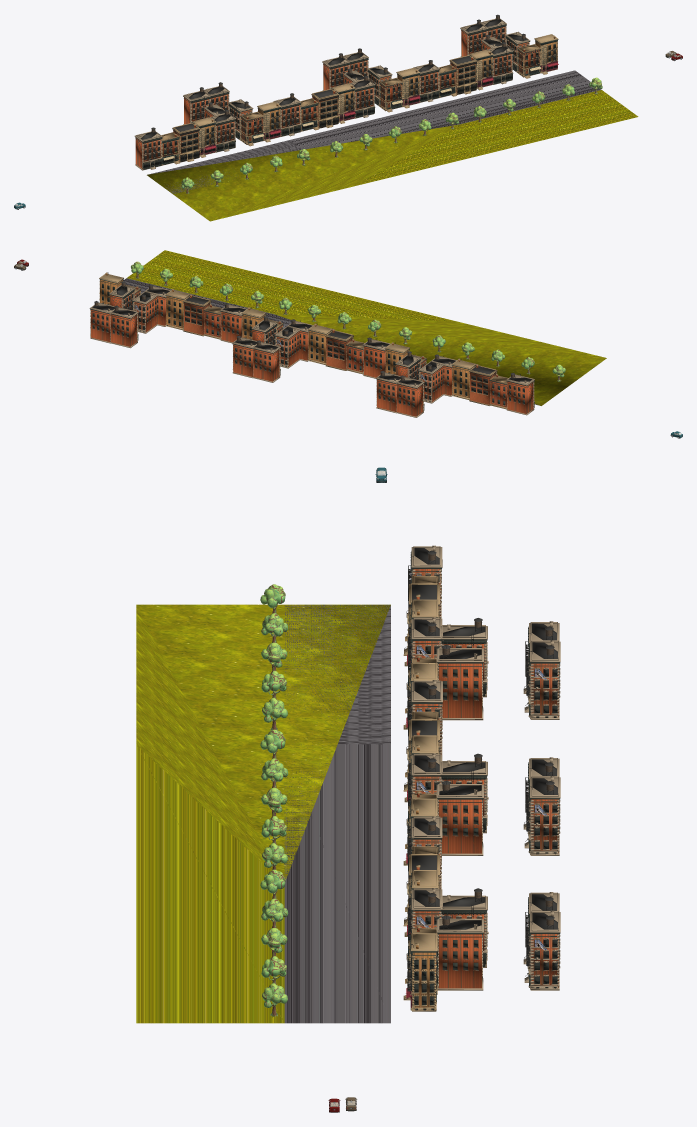
File: nyc_street.glb
3 views of the same model, one above another, from view 1: azimuth 30°, elevation 25°; view 2: azimuth 150°, elevation 25°; view 3: azimuth 270°, elevation 25° (orthographic). The views are drawn at different scales.
Visible parts, largest first — view 1: Object_829, Object_831, Object_4, Object_7, Object_11, Object_6, Object_331, Object_330, Object_14, Object_833, Object_482, Object_15 (+6 smaller); view 2: Object_829, Object_11, Object_7, Object_6, Object_338, Object_833, Object_15, Object_331, Object_592, Object_330, Object_480, Object_595 (+5 smaller); view 3: Object_829, Object_831, Object_7, Object_11, Object_833, Object_15, Object_6, Object_330, Object_14, Object_4, Object_482.
Part boxes in pixels (bbox=[...]): Object_829: bbox=[147, 90, 638, 221]; Object_831: bbox=[148, 70, 601, 193]; Object_4: bbox=[144, 16, 557, 169]; Object_7: bbox=[135, 18, 530, 170]; Object_11: bbox=[135, 26, 528, 168]; Object_6: bbox=[135, 24, 530, 169]; Object_331: bbox=[162, 39, 558, 164]; Object_330: bbox=[192, 34, 558, 157]; Object_14: bbox=[147, 17, 556, 168]; Object_833: bbox=[181, 77, 602, 193]; Object_482: bbox=[161, 44, 540, 165]; Object_15: bbox=[141, 15, 527, 139]; Object_829: bbox=[127, 250, 606, 405]; Object_11: bbox=[91, 292, 533, 416]; Object_7: bbox=[90, 285, 534, 417]; Object_6: bbox=[90, 289, 534, 409]; Object_338: bbox=[100, 273, 474, 398]; Object_833: bbox=[131, 261, 565, 381]; Object_15: bbox=[92, 281, 532, 384]; Object_331: bbox=[99, 278, 506, 405]; Object_592: bbox=[184, 295, 495, 404]; Object_330: bbox=[99, 272, 476, 399]; Object_480: bbox=[134, 287, 506, 407]; Object_595: bbox=[183, 301, 497, 394]; Object_829: bbox=[136, 604, 390, 1023]; Object_831: bbox=[284, 605, 390, 1023]; Object_7: bbox=[406, 545, 560, 990]; Object_11: bbox=[413, 569, 558, 988]; Object_833: bbox=[260, 584, 288, 1016]; Object_15: bbox=[411, 548, 558, 931]; Object_6: bbox=[410, 551, 560, 987]; Object_330: bbox=[403, 599, 438, 1011]; Object_14: bbox=[404, 550, 555, 1010]; Object_4: bbox=[414, 574, 557, 1010]; Object_482: bbox=[405, 575, 438, 994].
Bounding box in the file's own units: 348 × 18.74 × 97.56.
48 materials, 14 textured.
